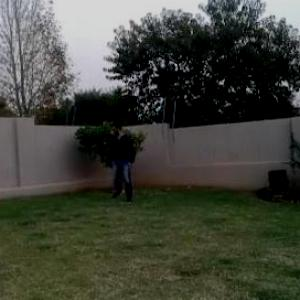follow: (109, 117, 136, 205)
